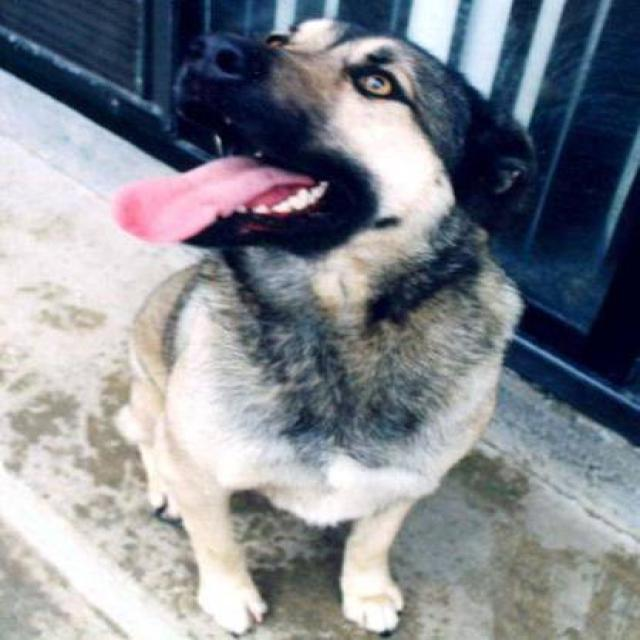dog: (111, 15, 538, 638)
